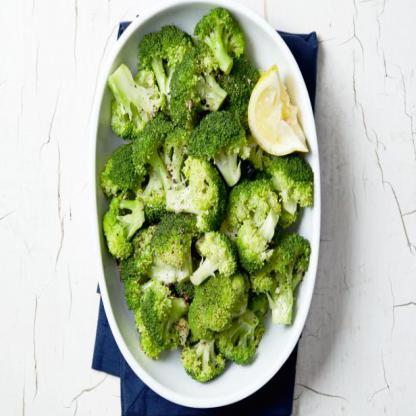broccoli: (104, 5, 316, 384)
